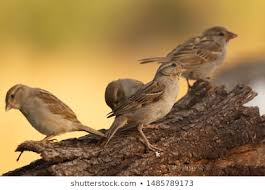home_sparrow: (103, 52, 181, 160), (142, 17, 240, 96), (1, 80, 104, 145)
